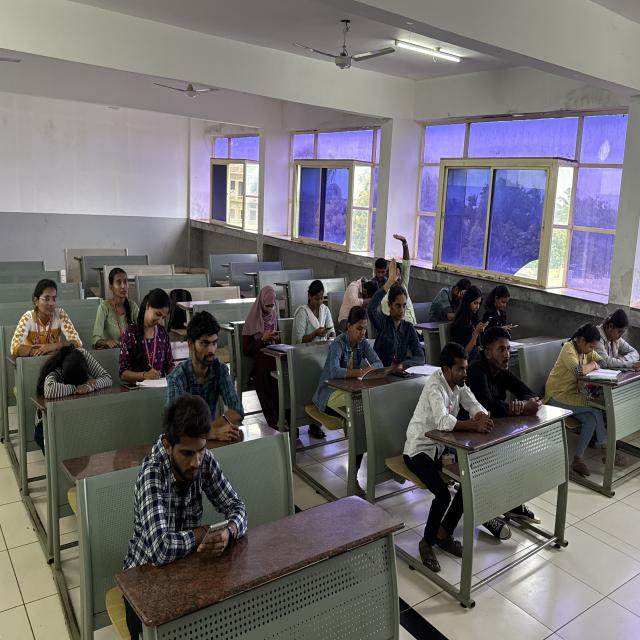Hand Rising: (368, 255, 421, 368)
Reading: (548, 320, 610, 390)
Sleeping: (30, 342, 116, 414), (338, 272, 388, 310)
Using Phone: (131, 389, 241, 556), (243, 283, 288, 368), (292, 276, 337, 344), (451, 282, 492, 352), (483, 276, 523, 337)
Writing: (163, 304, 251, 436), (118, 286, 179, 389), (321, 301, 386, 396)
